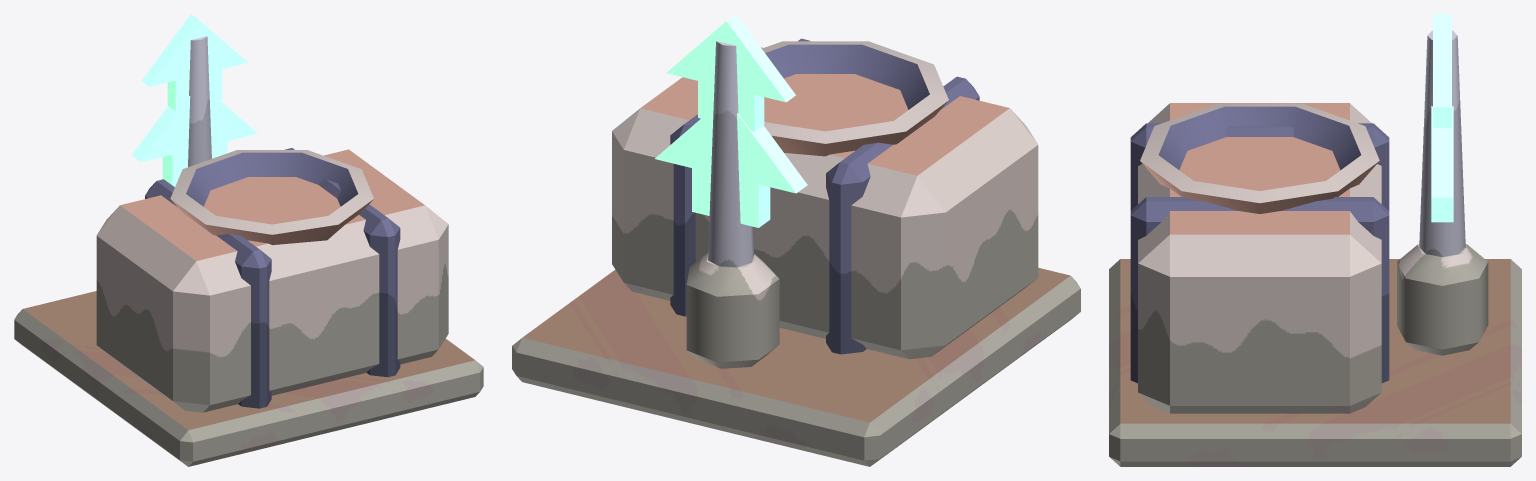
The model's file is R4X_CargoUplink_LOD1.glb.
3 views of the same model, side by side, from view 1: azimuth 30°, elevation 25°; view 2: azimuth 150°, elevation 25°; view 3: azimuth 270°, elevation 25° (orthographic). The views are drawn at different scales.
Parts seen in each view (by area): view 1: R4X_CargoUplink_LOD1; view 2: R4X_CargoUplink_LOD1; view 3: R4X_CargoUplink_LOD1.
Boxes of the visible parts, box(x1,y1,x2,y2) form: R4X_CargoUplink_LOD1: box(14, 14, 483, 466); R4X_CargoUplink_LOD1: box(512, 14, 1080, 466); R4X_CargoUplink_LOD1: box(1109, 14, 1521, 466).
Bounding box in the file's own units: 0.52 × 0.515 × 0.52.
5 materials, 4 textured.
